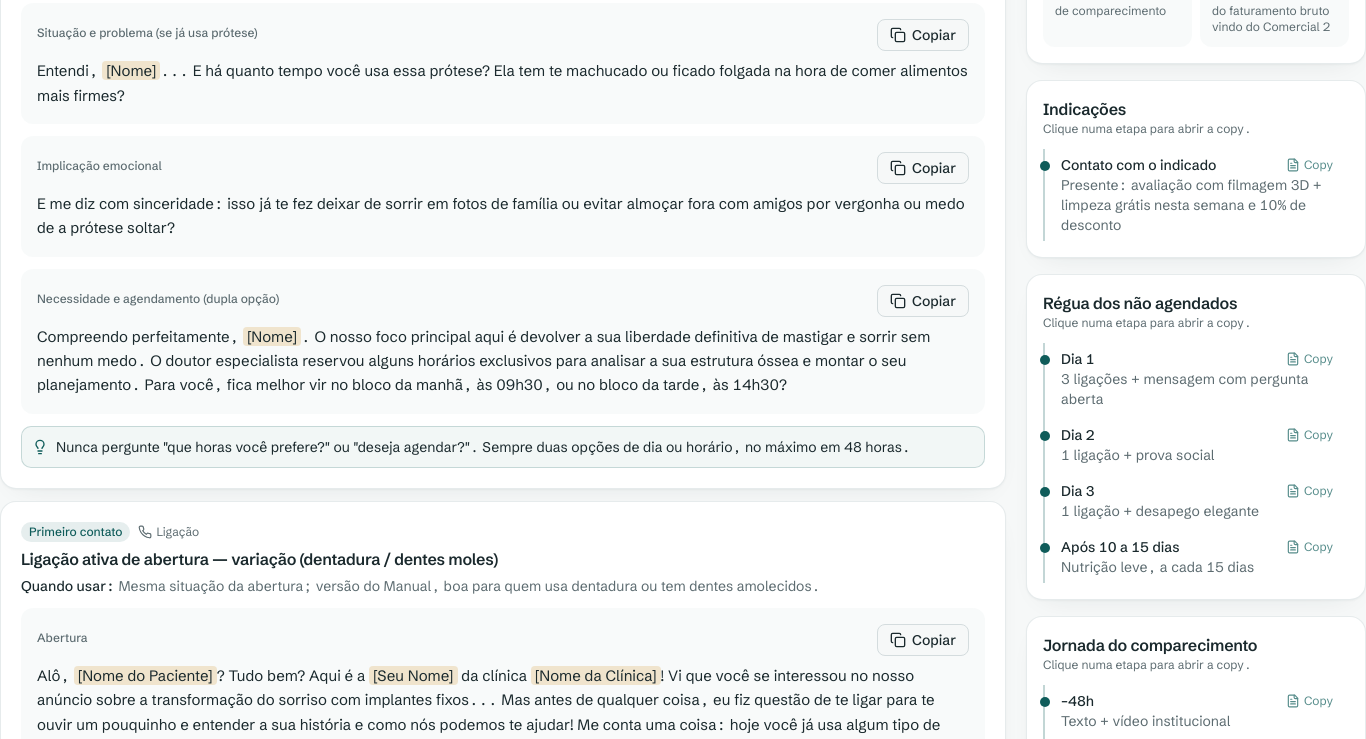
Test: Suporte: réguas abrem a copy › clicar em Dia 1 da régua abre o script com botão copiar
(page scrolled)
Click the button "Dia 1 Copy 3 ligações + mensagem com pergunta aberta": coordinates (1197, 379) [1053,343,1341,415]
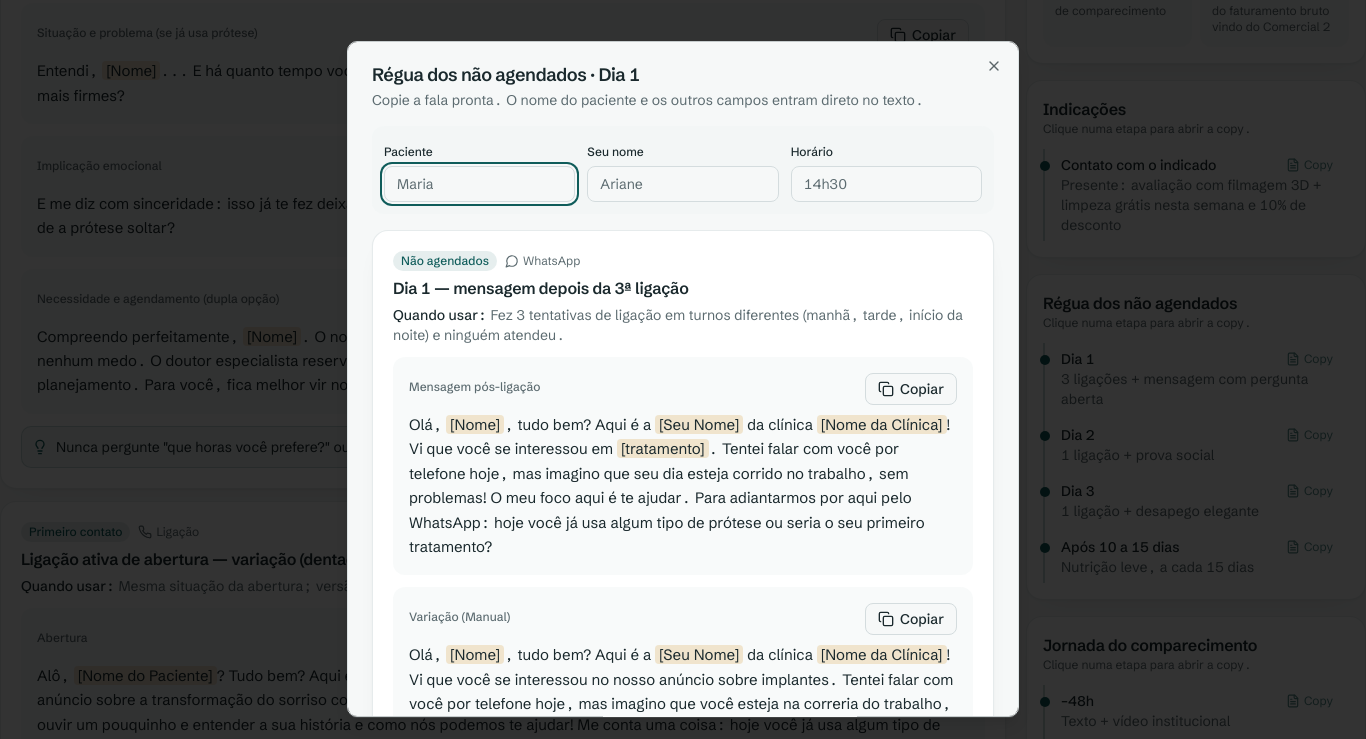
Check: the heading "Dia 1 — mensagem depois da 3ª ligação" is shown, box [393,278,689,298]
Check: the 1st button "Copiar" is shown, box [865,373,957,405]
